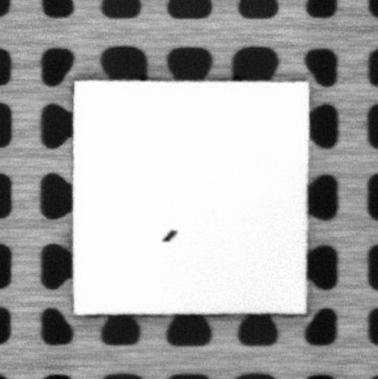DIE_INK: (161, 228, 179, 243)
